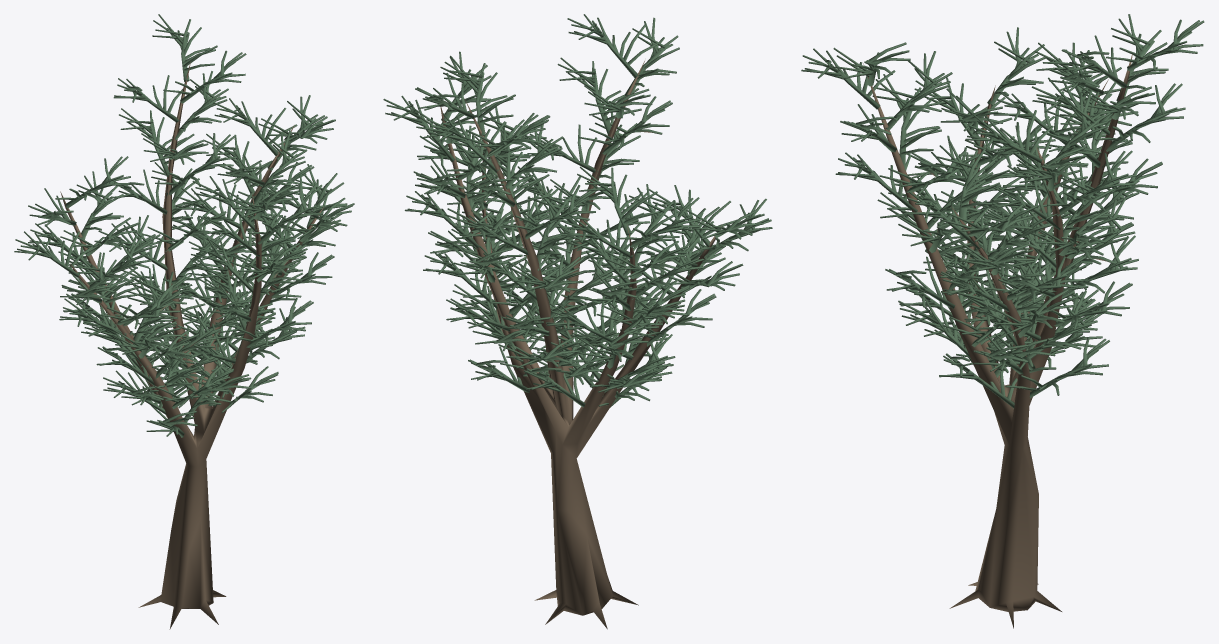
File: Genevrier_1_Niveau0.fbx
3 renders of one model, left to right at view 1: azimuth 30°, elevation 25°; view 2: azimuth 150°, elevation 25°; view 3: azimuth 270°, elevation 25°, orthographic. The views are drawn at different scales.
Visible parts, largest first — view 1: Genevrier_1_Niveau0_Jeu; view 2: Genevrier_1_Niveau0_Jeu; view 3: Genevrier_1_Niveau0_Jeu.
Boxes of the visible parts, x1,y1,x2,y2 form: Genevrier_1_Niveau0_Jeu: [14, 14, 354, 629]; Genevrier_1_Niveau0_Jeu: [383, 14, 772, 629]; Genevrier_1_Niveau0_Jeu: [801, 14, 1204, 628].
Size of the model in its own units: 177 by 272 by 161.
